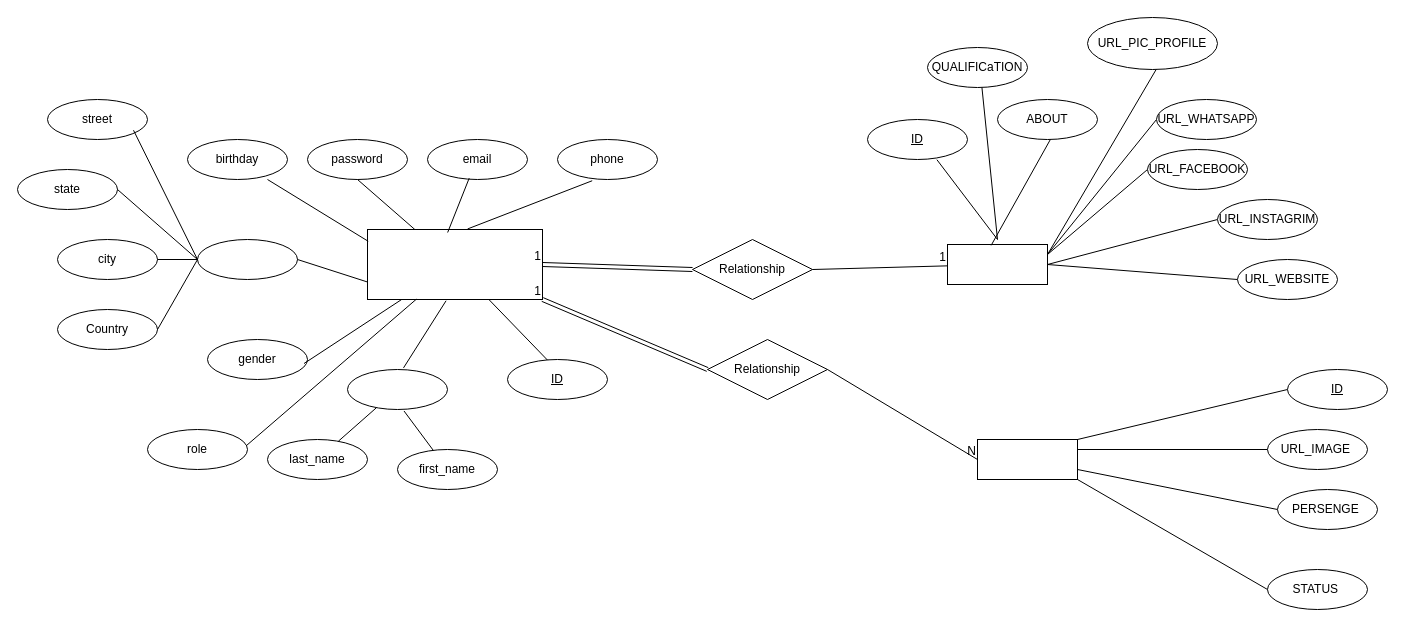
Image size: 1405x627. Some labels were removed from this diagram. The box of each missing label's shape, as (x1, y1, x2, y2) in pixels:
address: (196, 238, 298, 280)
name: (346, 368, 448, 410)
padtiont_details: (976, 438, 1078, 480)
profile: (946, 244, 1048, 284)
user: (366, 228, 542, 300)
